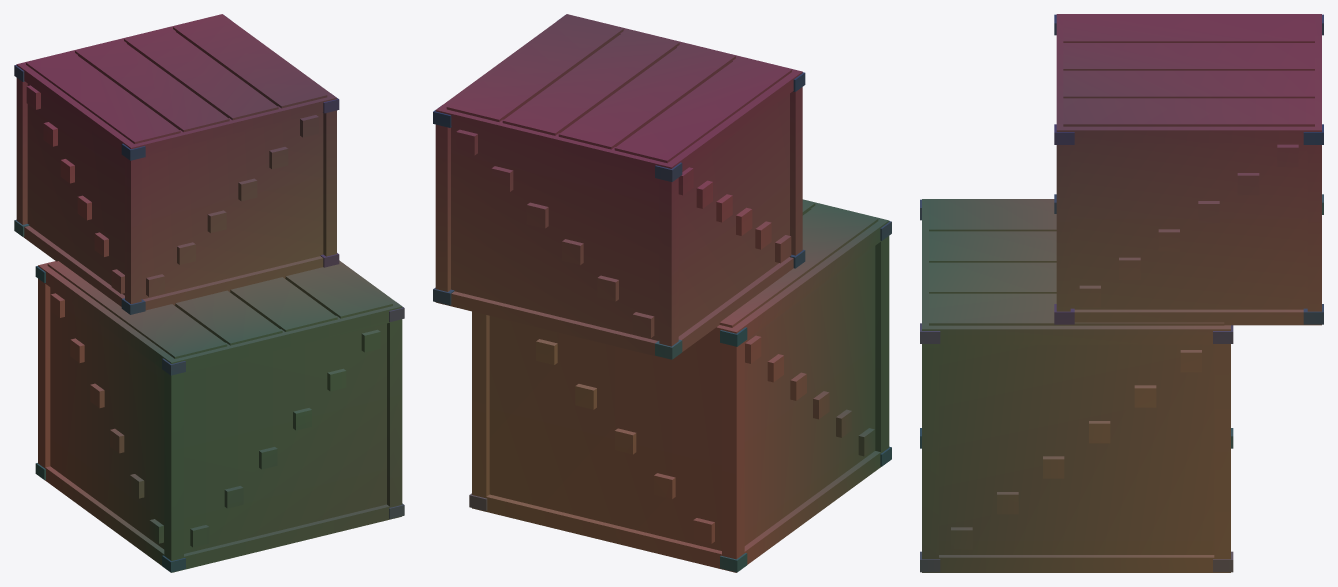
Rendered from crate_stack.glb.
3 renders of one model, left to right at view 1: azimuth 30°, elevation 25°; view 2: azimuth 150°, elevation 25°; view 3: azimuth 270°, elevation 25°, orthographic. The views are drawn at different scales.
Parts seen in each view (by area): view 1: crates, crate_iron; view 2: crates, crate_iron; view 3: crates, crate_iron.
Part boxes in pixels (left/top/right/bottom): crates: left=16, top=14, right=402, bottom=572; crate_iron: left=14, top=15, right=404, bottom=572; crates: left=435, top=14, right=889, bottom=572; crate_iron: left=433, top=15, right=891, bottom=572; crates: left=922, top=14, right=1321, bottom=572; crate_iron: left=920, top=14, right=1323, bottom=572.
Size of the model in its own units: 0.932 by 1.45 by 1.2.
